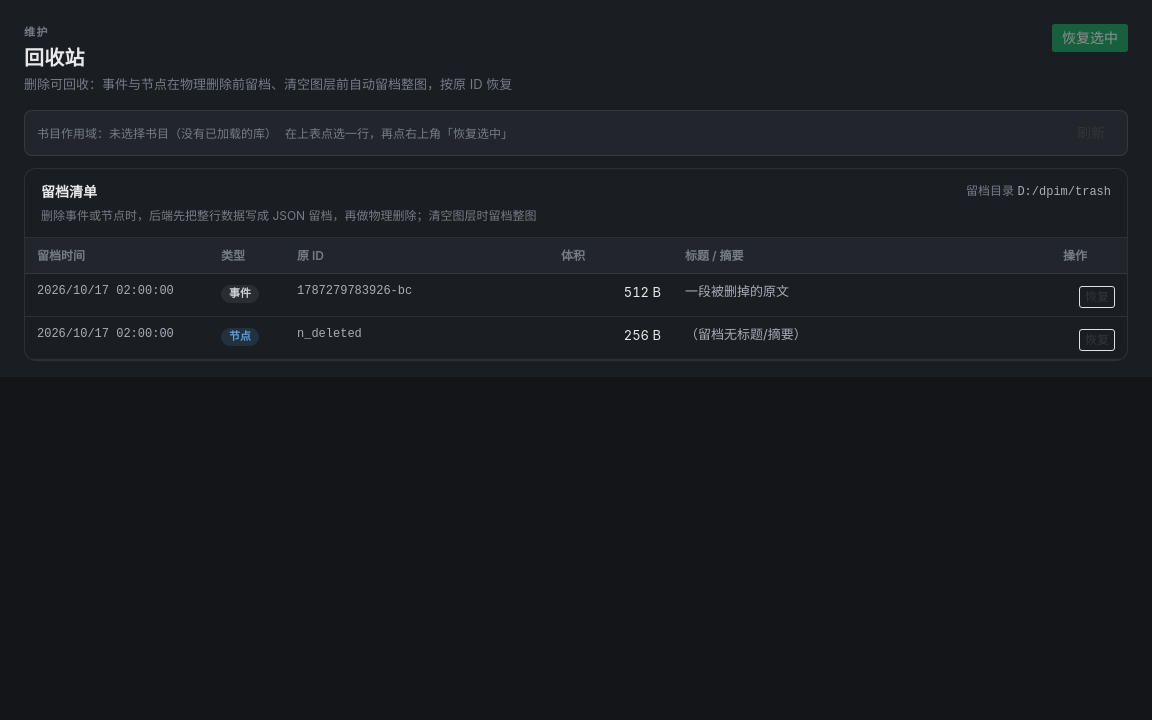
Scenario: TrashPage（回收站） › 恢复走二次确认：影响说明写清「按原 ID / 409 不覆盖 / 移入 restored」
Note: 点选一行 → 右上角「恢复选中」可用
Click the row "2026/10/17 02:00:00 事件 1787279783926-bc 512 B 一段被删掉的原文 恢复" at (576, 296), box [25,274,1127,317]
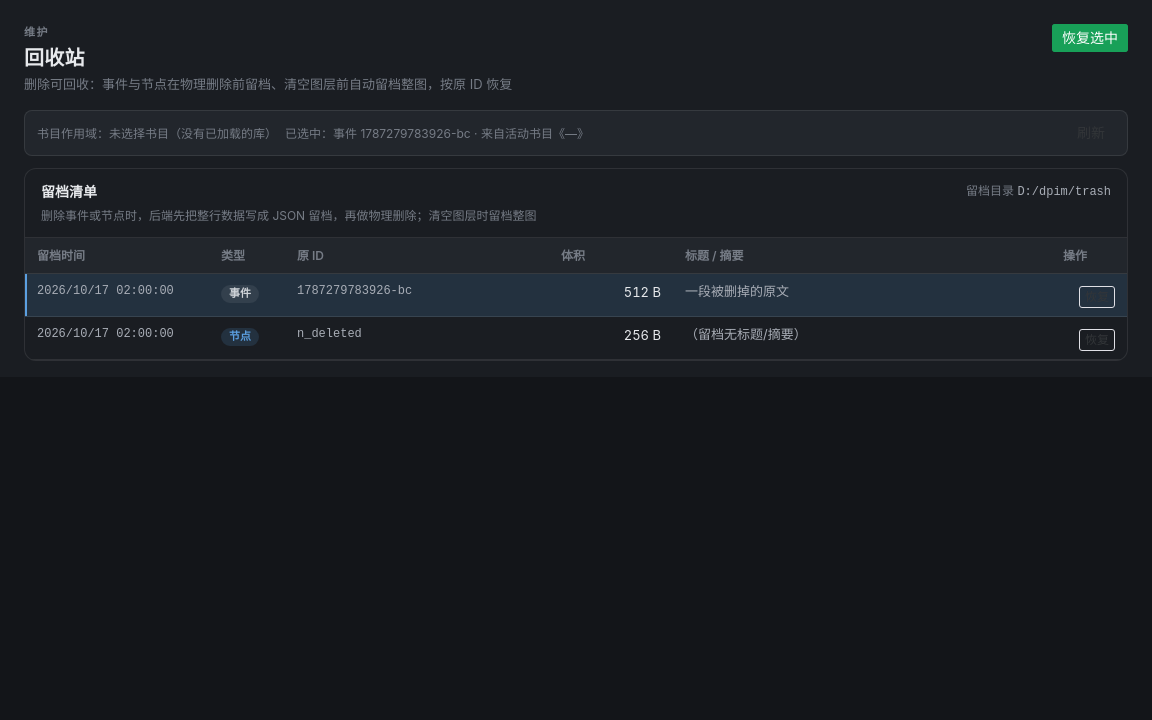
expect the text "已选中：事件 1787279783926-bc" is shown: met, box [285,126,589,140]
Click the button "恢复选中" at (1090, 38), box [1052,24,1128,52]
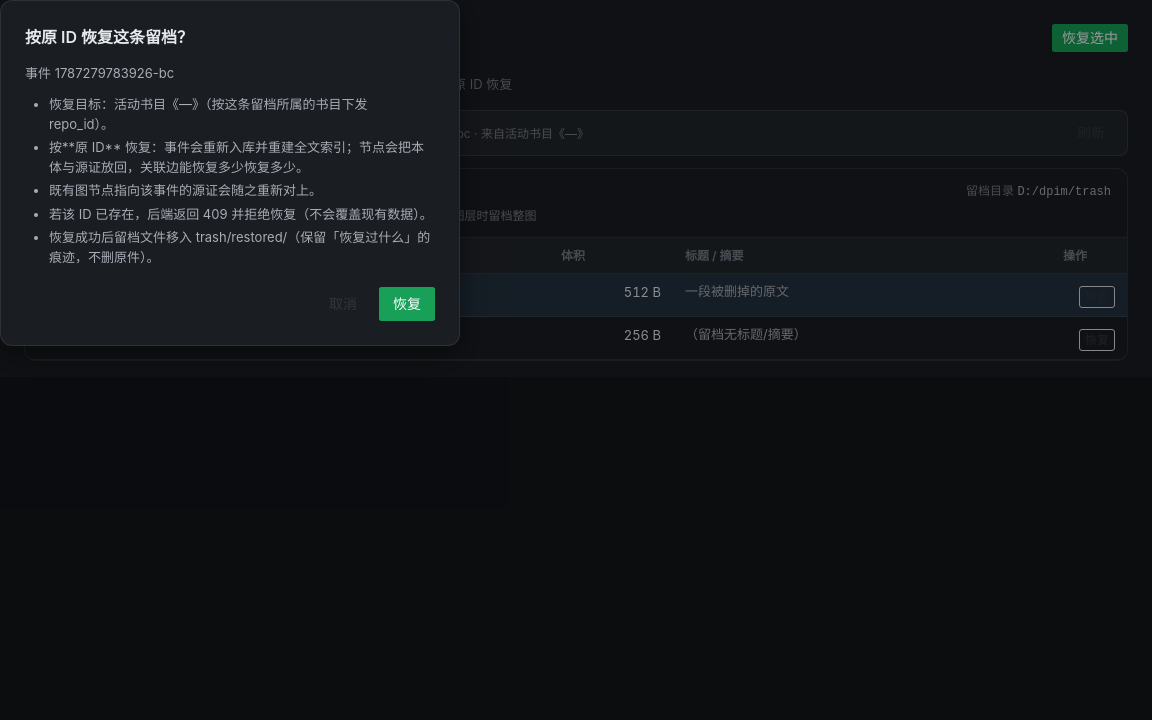
expect the dialog with class "confirm" shows "按原 ID 恢复这条留档？": met, box [25,27,193,47]
expect the dialog with class "confirm" shows "按**原 ID** 恢复": met, box [49,139,424,175]
expect the dialog with class "confirm" shows "409 并拒绝恢复（不会覆盖现有数据）": met, box [49,206,433,222]
